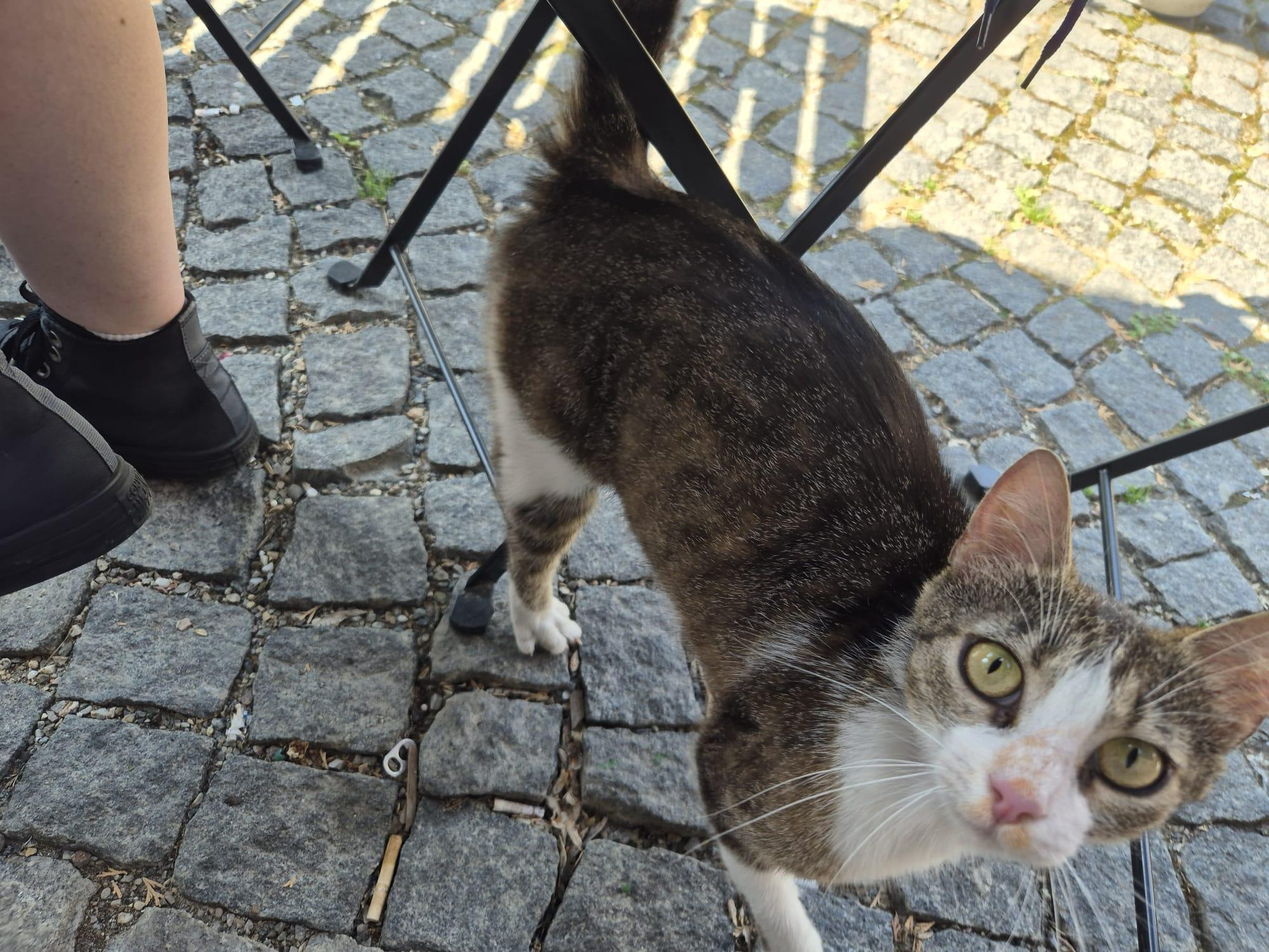macka: (482, 0, 1268, 951)
